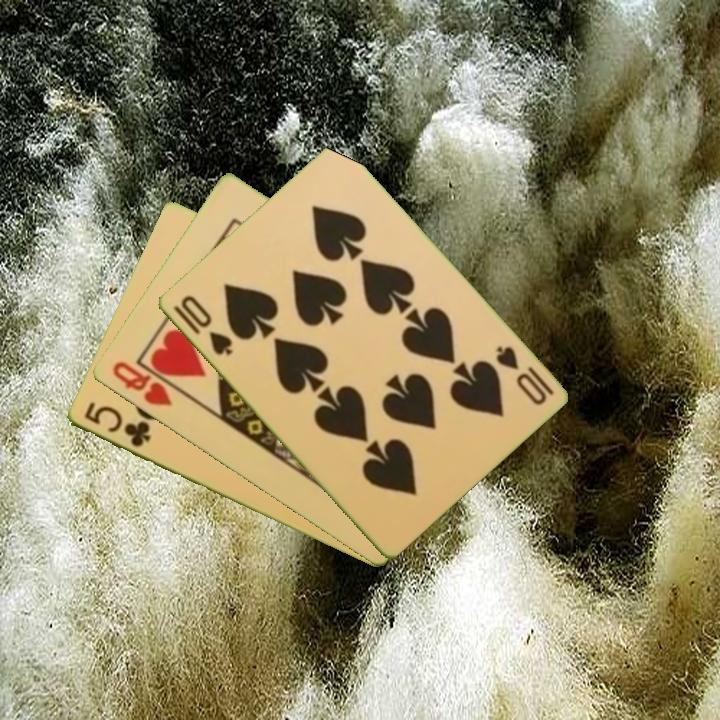10s: (491, 342, 556, 409), (176, 291, 236, 359)
5c: (80, 399, 153, 451)
Qh: (108, 357, 175, 410)
